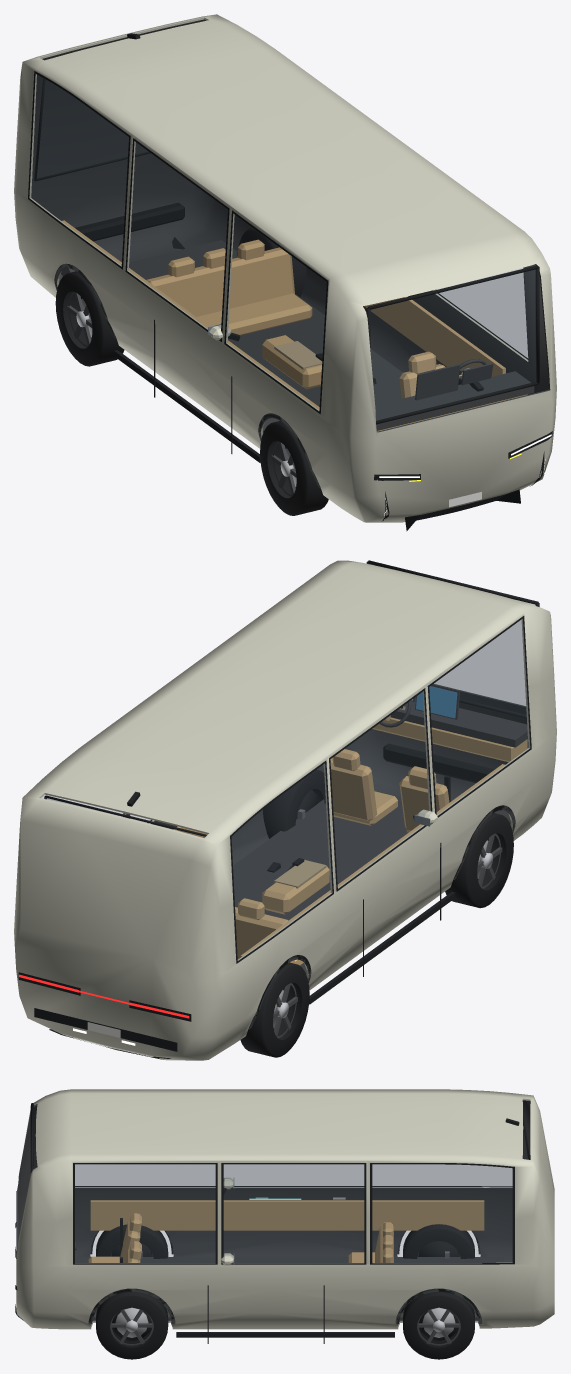
File: training-midibus.glb
3 renders of one model, top to bottom at view 1: azimuth 30°, elevation 25°; view 2: azimuth 150°, elevation 25°; view 3: azimuth 270°, elevation 25°, orthographic. The views are drawn at different scales.
Parts seen in each view (by area): view 1: Body, Surface_CarRoot_Glass, Interior_CarRoot_InteriorLeather, Surface_CarRoot_BlackTrim, Interior_CarRoot_InteriorDark, Surface_WheelFrontR_Tyre, Surface_WheelRearR_Tyre, Surface_WheelRearL_Tyre, Surface_CarRoot_Cladding, Interior_CarRoot_InteriorTrim; view 2: Body, Surface_CarRoot_Glass, Interior_CarRoot_InteriorDark, Interior_CarRoot_InteriorLeather, Surface_CarRoot_BlackTrim, Surface_WheelRearR_Tyre, Surface_WheelFrontR_Tyre, Surface_WheelFrontL_Tyre, InteriorCenterScreen, Surface_CarRoot_Cladding, Interior_CarRoot_InteriorTrim, InteriorSeatBaseL; view 3: Body, Surface_CarRoot_Glass, Interior_CarRoot_InteriorLeather, Surface_CarRoot_BlackTrim, Surface_WheelFrontL_Tyre, Surface_WheelRearL_Tyre, Surface_WheelRearR_Tyre, Interior_CarRoot_InteriorDark, Surface_WheelFrontR_Tyre, Surface_CarRoot_Cladding, Surface_WheelRearL_Rim, Surface_WheelFrontL_Rim (+2 smaller).
Part boxes in pixels (box(x1,y1,x2,y2)): Body: box(14, 14, 556, 522); Surface_CarRoot_Glass: box(29, 74, 535, 420); Interior_CarRoot_InteriorLeather: box(62, 220, 527, 431); Surface_CarRoot_BlackTrim: box(28, 33, 552, 531); Interior_CarRoot_InteriorDark: box(59, 240, 534, 432); Surface_WheelFrontR_Tyre: box(260, 421, 328, 515); Surface_WheelRearR_Tyre: box(55, 271, 124, 366); Surface_WheelRearL_Tyre: box(237, 228, 306, 297); Surface_CarRoot_Cladding: box(54, 263, 319, 487); Interior_CarRoot_InteriorTrim: box(274, 341, 322, 369); Body: box(14, 560, 556, 1060); Surface_CarRoot_Glass: box(42, 603, 534, 960); Interior_CarRoot_InteriorDark: box(233, 684, 527, 973); Interior_CarRoot_InteriorLeather: box(174, 717, 527, 965); Surface_CarRoot_BlackTrim: box(18, 560, 539, 1059); Surface_WheelRearR_Tyre: box(240, 962, 309, 1057); Surface_WheelFrontR_Tyre: box(445, 813, 513, 908); Surface_WheelFrontL_Tyre: box(263, 769, 325, 838); InteriorCenterScreen: box(416, 686, 457, 718); Surface_CarRoot_Cladding: box(249, 805, 515, 1029); Interior_CarRoot_InteriorTrim: box(274, 860, 326, 888); InteriorSeatBaseL: box(333, 791, 397, 825); Body: box(16, 1089, 554, 1329); Surface_CarRoot_Glass: box(75, 1120, 528, 1262); Interior_CarRoot_InteriorLeather: box(88, 1200, 484, 1262); Surface_CarRoot_BlackTrim: box(15, 1103, 529, 1343); Surface_WheelFrontL_Tyre: box(96, 1292, 168, 1359); Surface_WheelRearL_Tyre: box(403, 1292, 474, 1359); Surface_WheelRearR_Tyre: box(403, 1224, 474, 1258); Interior_CarRoot_InteriorDark: box(75, 1257, 503, 1319); Surface_WheelFrontR_Tyre: box(96, 1224, 168, 1258); Surface_CarRoot_Cladding: box(88, 1230, 482, 1324); Surface_WheelRearL_Rim: box(417, 1309, 460, 1345); Surface_WheelFrontL_Rim: box(110, 1309, 153, 1345).
Bounding box in the file's own units: 2.32 × 2.66 × 6.46.
